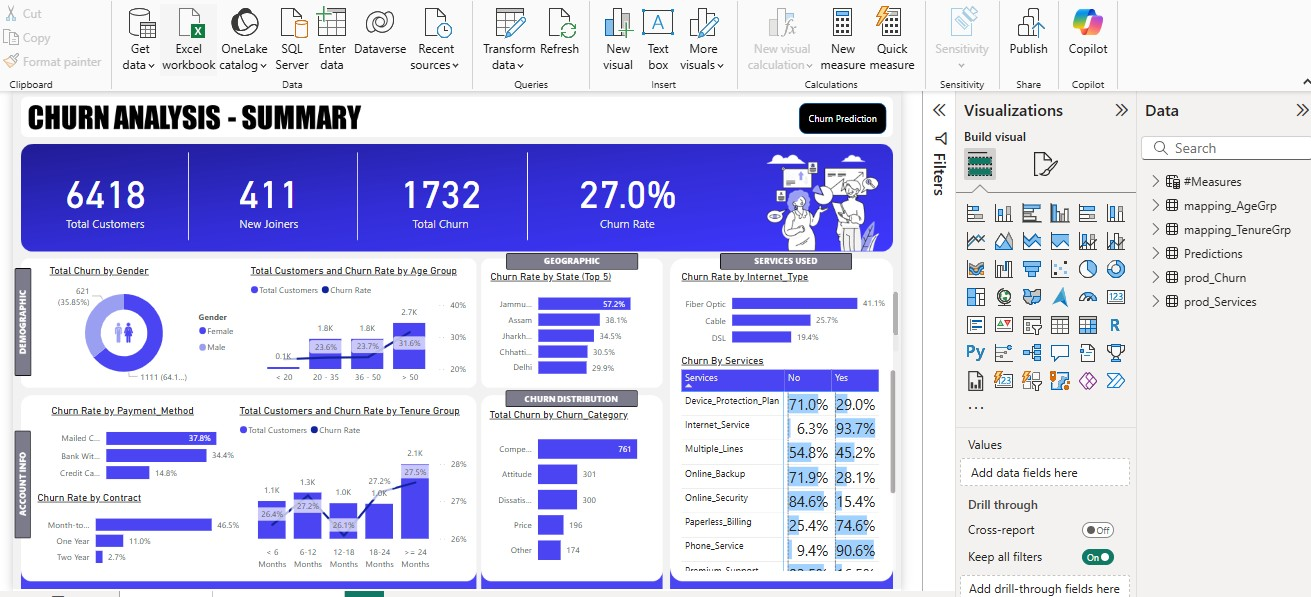

What the dashboard file says about the page in this screenshot:
{"tool":"powerbi","page":{"name":"Summary","canvas":[1280,720],"ordinal":0},"visuals":[{"type":"image","box":[135.5,323.8,48.4,47.3],"z":0},{"type":"card","fields":{"Values":["#Measures.Total_Customers"]},"box":[18.5,75.6,228.5,156.2],"z":1000},{"type":"card","fields":{"Values":["#Measures.New Joiners"]},"box":[255.3,75.6,226.8,156.2],"z":2000},{"type":"card","fields":{"Values":["#Measures.Total Churn"]},"box":[498.9,75.6,235.2,156.2],"z":3000},{"type":"card","fields":{"Values":["#Measures.Churn Rate"]},"box":[764.3,75.6,240.2,156.2],"z":4000},{"type":"donutChart","fields":{"Y":["#Measures.Total Churn"],"Category":["prod_Churn.Gender"]},"box":[47,250.3,285.6,179.7],"z":5000},{"type":"lineStackedColumnComboChart","fields":{"Category":["mapping_AgeGrp.Age Group"],"Y":["#Measures.Total Customers"],"Y2":["#Measures.Churn Rate"]},"box":[337.6,250.3,320.8,179.7],"z":6000},{"type":"clusteredBarChart","fields":{"Category":["prod_Churn.Payment_Method"],"Y":["#Measures.Churn Rate"]},"box":[50.4,451.9,282.2,122.6],"z":7000},{"type":"clusteredBarChart","fields":{"Category":["prod_Churn.Contract"],"Y":["#Measures.Churn Rate"]},"box":[30.2,577.8,302.4,117.6],"z":8000},{"type":"lineStackedColumnComboChart","fields":{"Y":["#Measures.Total Customers"],"Category":["mapping_TenureGrp.Tenure Group "],"Y2":["#Measures.Churn Rate"]},"box":[320.8,451.9,337.6,243.6],"z":9000},{"type":"clusteredBarChart","title":"Churn Rate by State (Top 5)","fields":{"Category":["prod_Churn.State"],"Y":["#Measures.Churn Rate"]},"box":[682,258.7,245.2,162.9],"z":10000},{"type":"clusteredBarChart","fields":{"Y":["#Measures.Total Churn"],"Category":["prod_Churn.Churn_Category"]},"box":[681.5,458.5,247.7,238.5],"z":11000},{"type":"clusteredBarChart","fields":{"Y":["#Measures.Churn Rate"],"Category":["prod_Churn.Internet_Type"]},"box":[957.5,258.7,322.5,120.9],"z":12000},{"type":"pivotTable","title":"Churn By Services","fields":{"Rows":["prod_Services.Services"],"Columns":["prod_Services.Status"],"Values":["Sum(prod_Services.Churn Status)"]},"box":[957.5,379.6,319.2,315.8],"z":13000},{"type":"slicer","fields":{"Values":["prod_Services.Married"]},"box":[1385,10,152.5,65],"z":15000},{"type":"shape","box":[1132.3,16.9,126.2,44.6],"z":16001}]}

Visuals, with their boxes on the page's 1280x720 design canvas (x1, y1, x2, y2). These are canvas units, not pixel positions in the 1311x597 screenshot, which may show the page scaled, cropped or inside an application window:
image: left=136, top=324, right=184, bottom=371
card - #Measures.Total_Customers: left=18, top=76, right=247, bottom=232
card - #Measures.New Joiners: left=255, top=76, right=482, bottom=232
card - #Measures.Total Churn: left=499, top=76, right=734, bottom=232
card - #Measures.Churn Rate: left=764, top=76, right=1004, bottom=232
donutChart - #Measures.Total Churn x prod_Churn.Gender: left=47, top=250, right=333, bottom=430
lineStackedColumnComboChart - mapping_AgeGrp.Age Group x #Measures.Total Customers: left=338, top=250, right=658, bottom=430
clusteredBarChart - prod_Churn.Payment_Method x #Measures.Churn Rate: left=50, top=452, right=333, bottom=574
clusteredBarChart - prod_Churn.Contract x #Measures.Churn Rate: left=30, top=578, right=333, bottom=695
lineStackedColumnComboChart - #Measures.Total Customers x mapping_TenureGrp.Tenure Group : left=321, top=452, right=658, bottom=696
"Churn Rate by State (Top 5)" clusteredBarChart: left=682, top=259, right=927, bottom=422
clusteredBarChart - #Measures.Total Churn x prod_Churn.Churn_Category: left=682, top=458, right=929, bottom=697
clusteredBarChart - #Measures.Churn Rate x prod_Churn.Internet_Type: left=958, top=259, right=1280, bottom=380
"Churn By Services" pivotTable: left=958, top=380, right=1277, bottom=695
slicer - prod_Services.Married: left=1385, top=10, right=1538, bottom=75
shape: left=1132, top=17, right=1258, bottom=62
